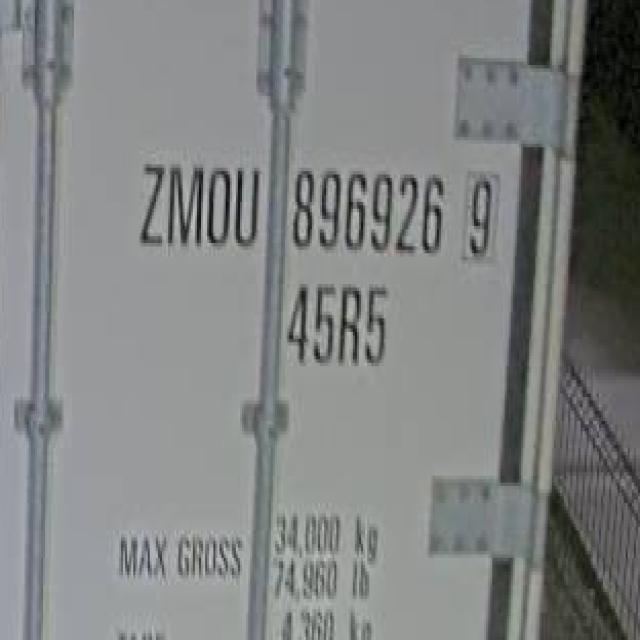dv: (457, 167, 502, 263)
owner: (136, 150, 262, 261)
serial: (287, 158, 449, 259)
size: (281, 274, 397, 371)
